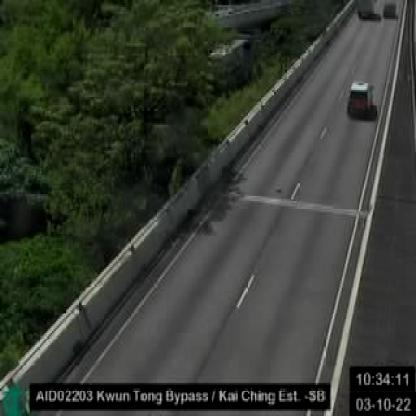Car: (349, 78, 373, 116)
